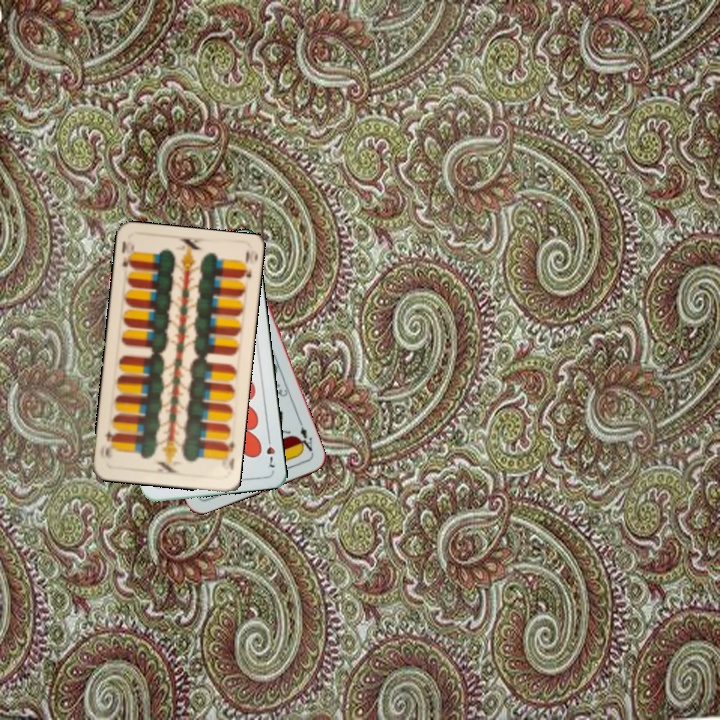E10: (118, 237, 137, 271), (218, 436, 237, 455)
EA: (293, 418, 316, 457)
H7: (262, 431, 278, 470)
